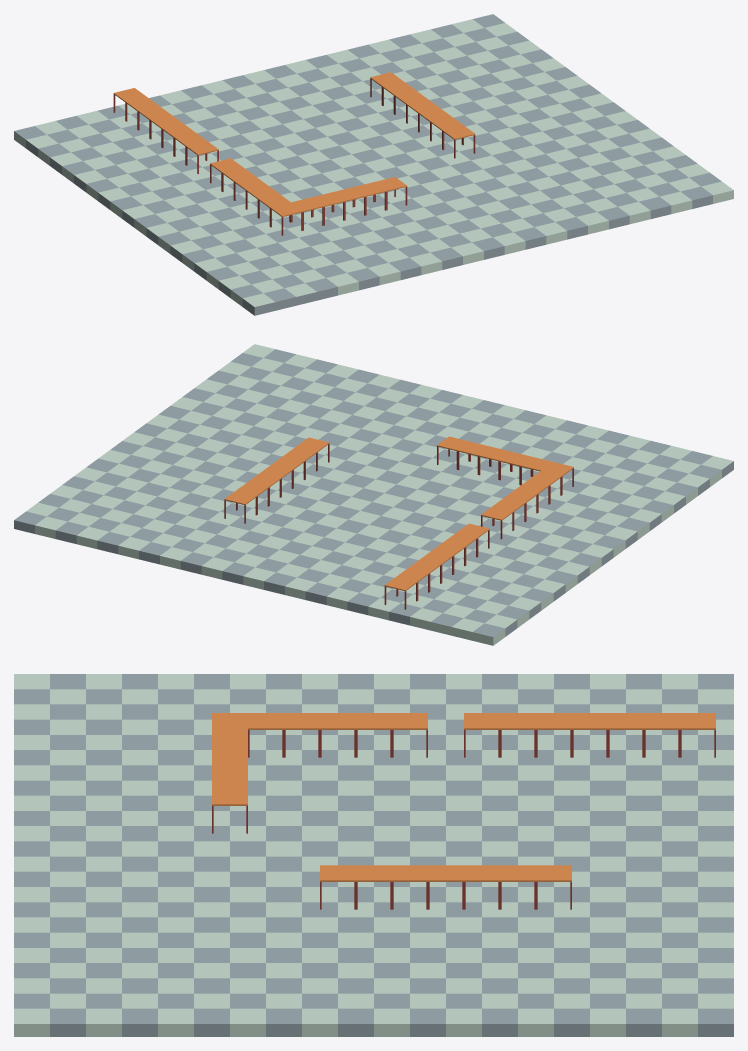
The model's file is Level_01.glb.
The picture shows the model from 3 angles, top to bottom: view 1: azimuth 30°, elevation 25°; view 2: azimuth 150°, elevation 25°; view 3: azimuth 270°, elevation 25°; orthographic projection. The views are drawn at different scales.
Visible parts, largest first — view 1: Floor; view 2: Floor; view 3: Floor, Table.001, Table, Table.004, Table.005, Table.003, Table.002, Table.006, Table.007, Table.008, Table.009, Table.010 (+9 smaller).
Boxes of the visible parts, box(x1,y1,x2,y2) form: Floor: box(14, 14, 733, 315); Floor: box(14, 344, 733, 645); Floor: box(14, 674, 733, 1036); Table.001: box(500, 865, 535, 909); Table: box(464, 865, 499, 909); Table.004: box(536, 865, 571, 909); Table.005: box(392, 865, 427, 909); Table.003: box(356, 865, 391, 909); Table.002: box(428, 865, 463, 909); Table.006: box(320, 865, 355, 909); Table.007: box(320, 713, 355, 757); Table.008: box(356, 713, 391, 757); Table.009: box(392, 713, 427, 757); Table.010: box(464, 713, 499, 757).
Size of what is drawn, in the model's own units: 23 by 1.3 by 20.
1 material, 1 textured.
